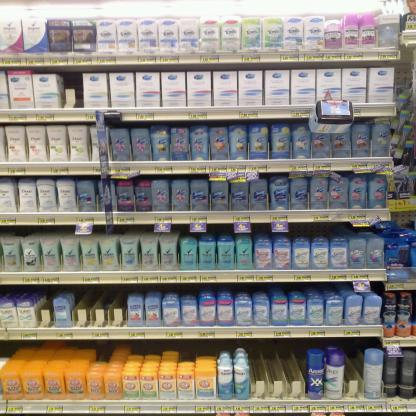Void: (254, 343, 303, 397), (78, 287, 127, 327), (61, 75, 88, 107), (349, 349, 365, 401), (37, 288, 53, 328)
